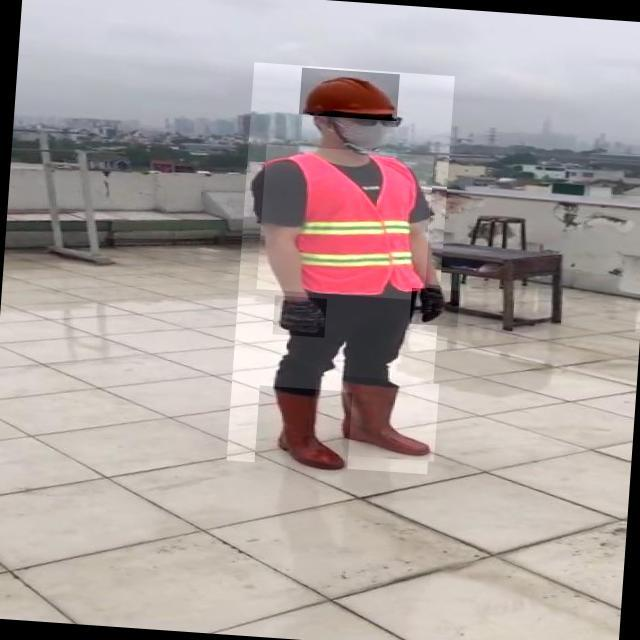Gloves: (272, 296, 327, 338), (409, 288, 459, 327)
Helmet: (299, 69, 400, 121)
Human: (226, 63, 454, 476)
Safety Boot: (253, 386, 352, 477), (336, 377, 439, 462)
Safety Vest: (257, 145, 434, 300)
